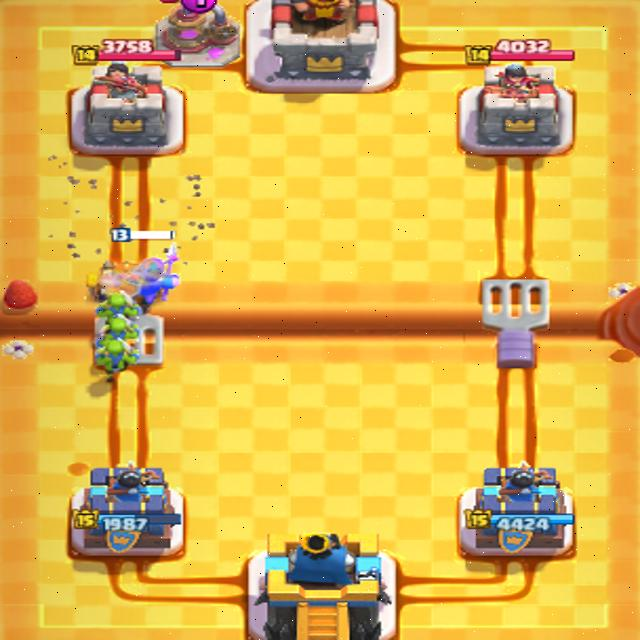EKingTower: (247, 0, 383, 91)
EPump: (155, 0, 240, 66)
EnemyPrincessTower: (471, 62, 558, 147), (86, 62, 168, 146)
OGoblin: (94, 335, 138, 378), (96, 292, 140, 320), (96, 317, 139, 341)
ORoyalR: (126, 242, 179, 311), (131, 231, 174, 239)
OwnKingTower: (254, 533, 392, 639)
OwnPrincessTower: (460, 461, 572, 555), (72, 462, 181, 554)
